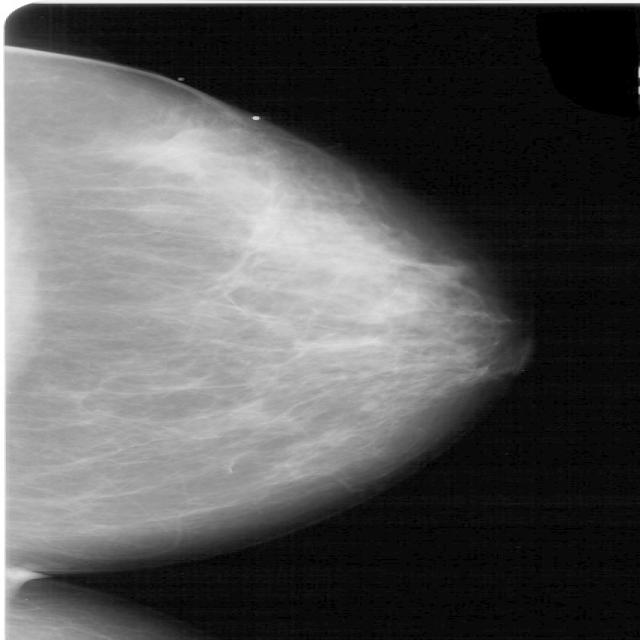tumour: (124, 129, 228, 176)
